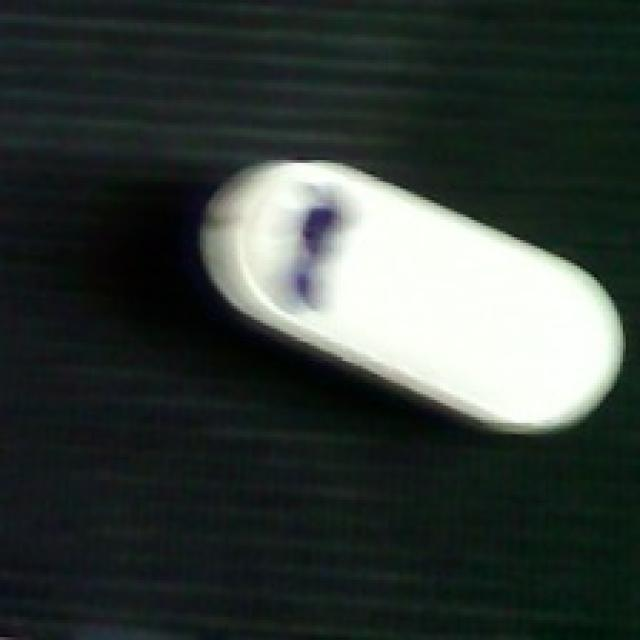defected: (192, 155, 632, 440)
